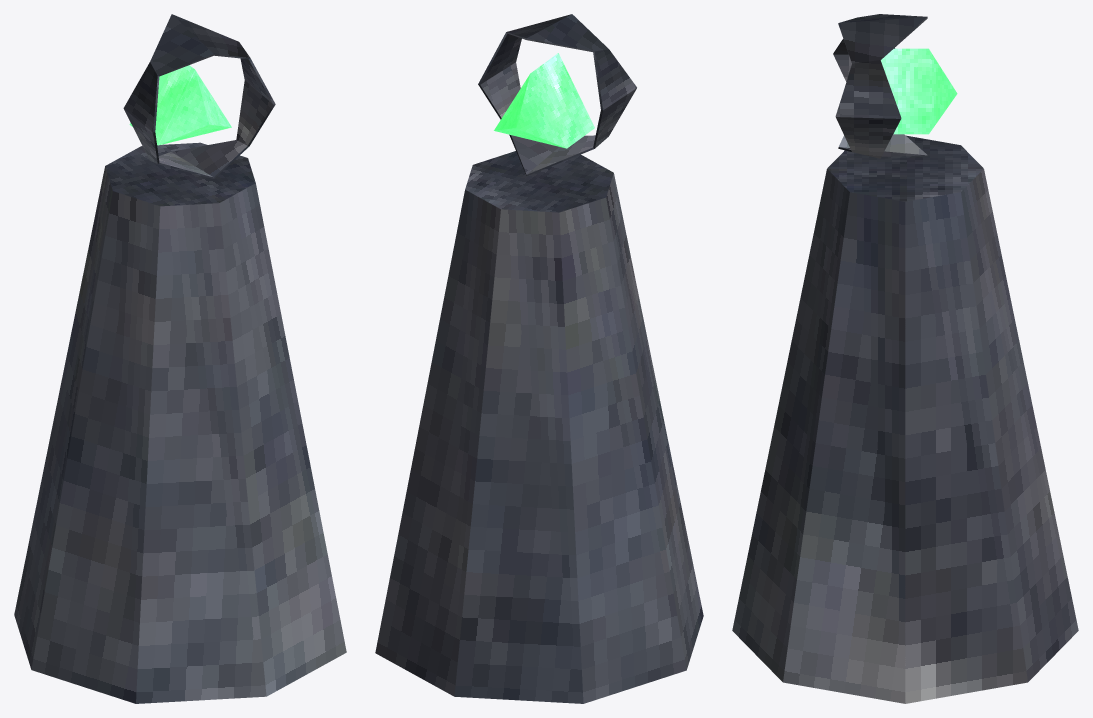
Rendered from Rayser.gltf.
The picture shows the model from 3 angles, left to right: view 1: azimuth 30°, elevation 25°; view 2: azimuth 150°, elevation 25°; view 3: azimuth 270°, elevation 25°; orthographic projection.
Parts seen in each view (by area): view 1: 円錐, 円, 球; view 2: 円錐, 円, 球; view 3: 円錐, 円, 球.
Boxes of the visible parts, box(x1,y1,x2,y2) form: 円錐: box(14, 142, 346, 703); 円: box(123, 14, 275, 178); 球: box(129, 65, 231, 145); 円錐: box(375, 151, 703, 703); 円: box(478, 14, 636, 175); 球: box(494, 53, 594, 148); 円錐: box(732, 135, 1078, 703); 円: box(833, 14, 927, 158); 球: box(881, 48, 957, 134).
Size of the model in its own units: 0.6035 by 1.18 by 0.6035.
2 materials, 2 textured.
